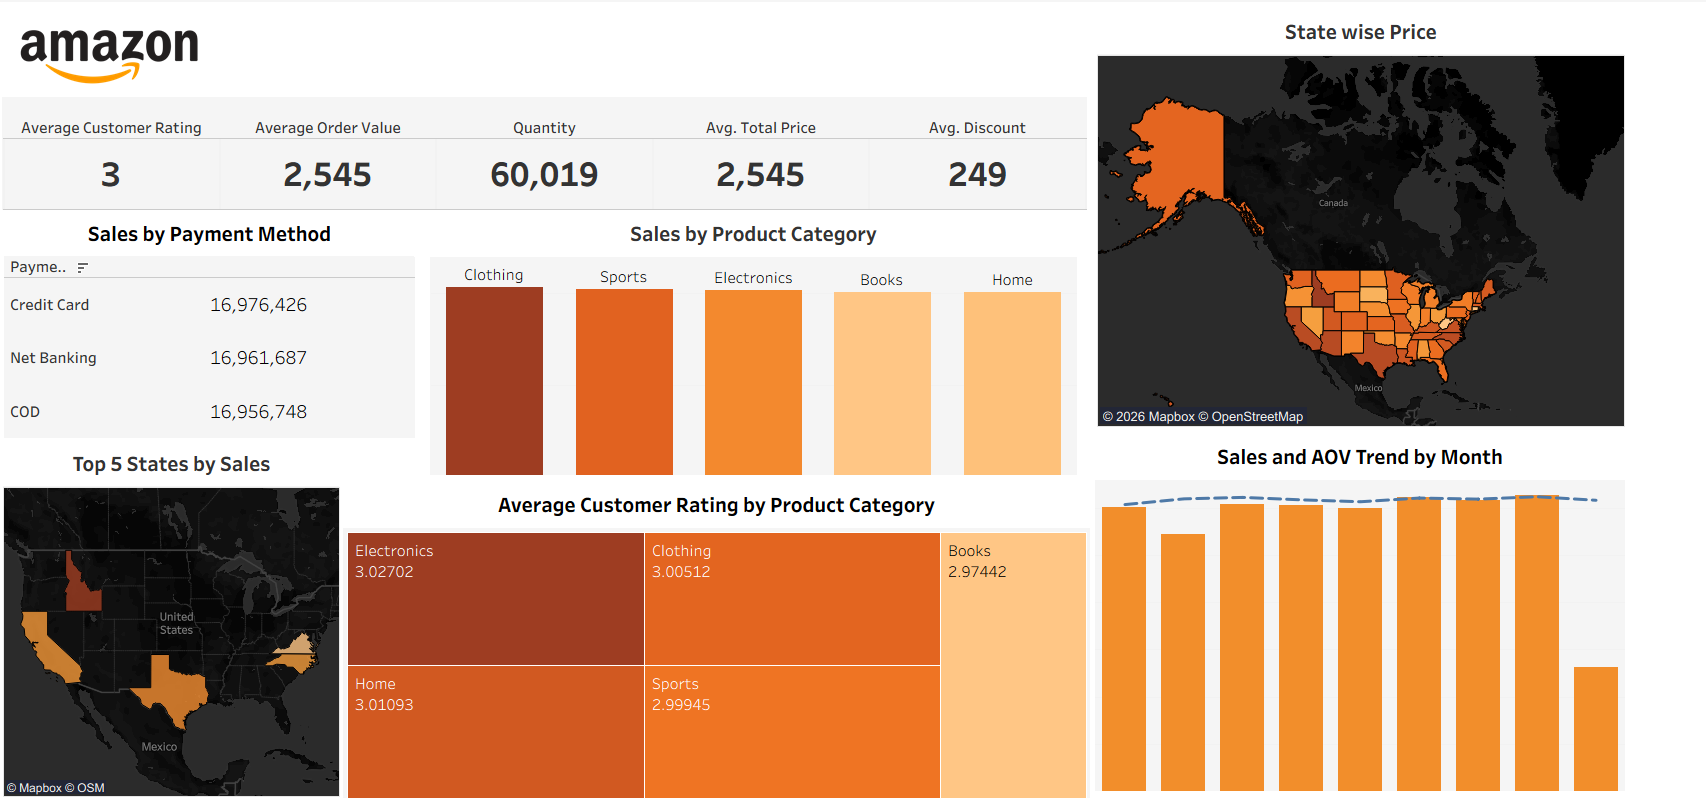

The page's visual inventory and layout, read from the dashboard file:
{"tool":"tableau","page":{"name":"Dashboard 1","canvas":[1000,1000],"units":"permille","ordinal":0},"visuals":[{"type":"worksheet","title":"State wise Price","mark":"Automatic","box":[639,14,307,515.9]},{"type":"worksheet","title":"KPI card","mark":"Automatic","box":[2.3,118.5,630.8,141.4]},{"type":"worksheet","title":"Sales by Payment Method","mark":"Automatic","rows":["Payment_Method"],"box":[3.5,265,239,279]},{"type":"worksheet","title":"Sales by Product Category","mark":"Automatic","rows":["Total_Price"],"cols":["Product_Category"],"box":[251.2,265,376.2,324.8]},{"type":"worksheet","title":"Sales and AOV Trend by Month","mark":"Automatic","rows":["Total_Price","Calculation_554787238730874881"],"cols":["Order_Date"],"box":[637.8,544,308.1,440.8]},{"type":"worksheet","title":"Top 5 States by Sales","mark":"Automatic","box":[2.9,552.9,195.9,439.5]},{"type":"worksheet","title":"Average Customer Rating by Product Category","mark":"Automatic","box":[200.6,603.8,434.3,394.9]}]}

Visuals, with their boxes on the dashboard's canvas, which has no fixed pixel size, in thousandths of its width and height (x1, y1, x2, y2). These are canvas units, not pixel positions in the 1706x798 screenshot, which may show the page scaled, cropped or inside an application window:
"State wise Price" worksheet: l=639, t=14, r=946, b=530
"KPI card" worksheet: l=2, t=118, r=633, b=260
"Sales by Payment Method" worksheet: l=4, t=265, r=242, b=544
"Sales by Product Category" worksheet: l=251, t=265, r=627, b=590
"Sales and AOV Trend by Month" worksheet: l=638, t=544, r=946, b=985
"Top 5 States by Sales" worksheet: l=3, t=553, r=199, b=992
"Average Customer Rating by Product Category" worksheet: l=201, t=604, r=635, b=999
